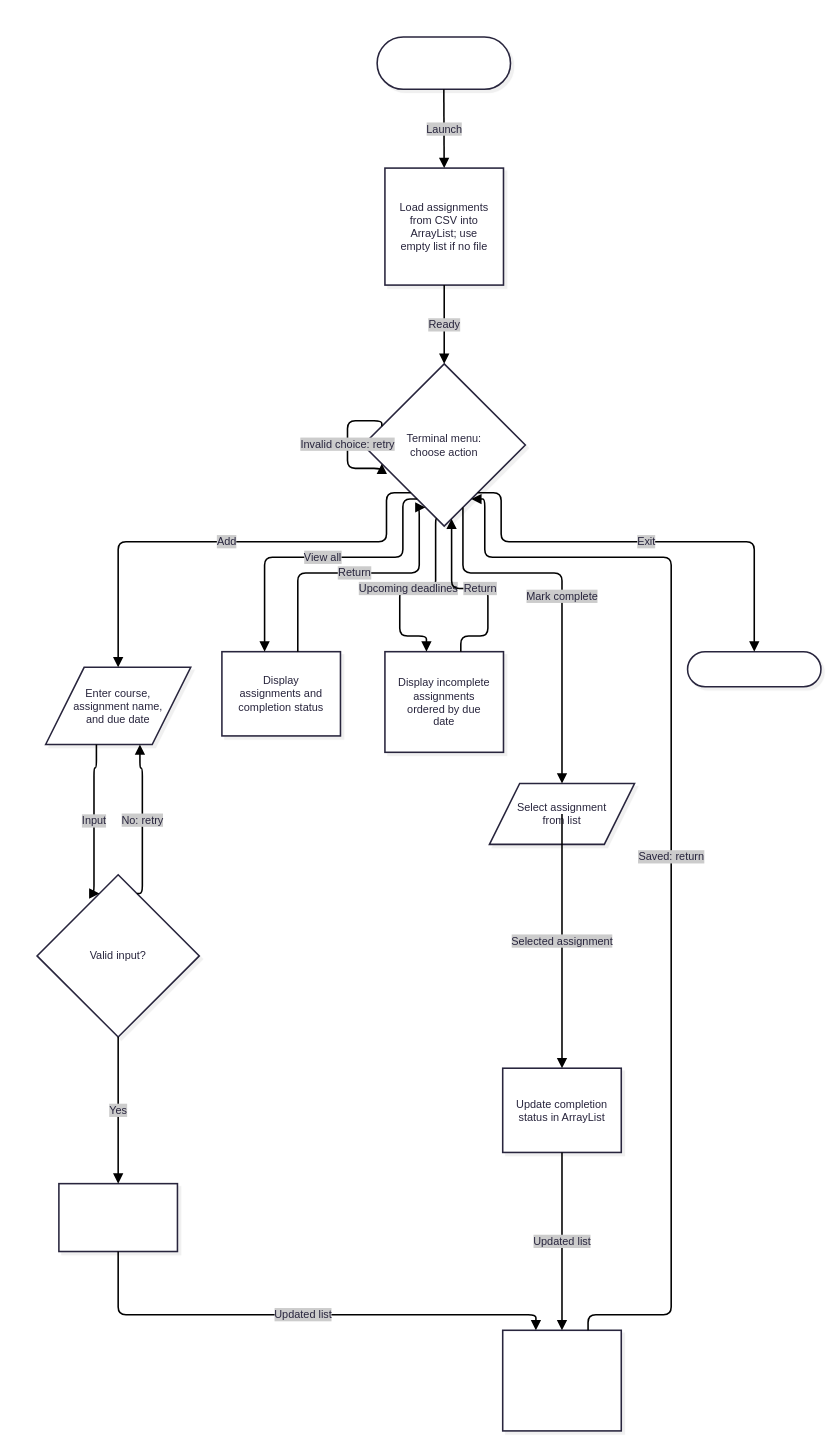
Some shapes in this 838 by 1448 pixel diagram are drawn without their labels. Here are the shapes that lost their labels. From the top down, the centre of each, then its label:
the point at 445,64: START: Run Java main
the point at 755,670: END
the point at 119,1218: Add assignment to ArrayList as incomplete
the point at 563,1381: Save assignments to CSV: course, name, due date, complete
